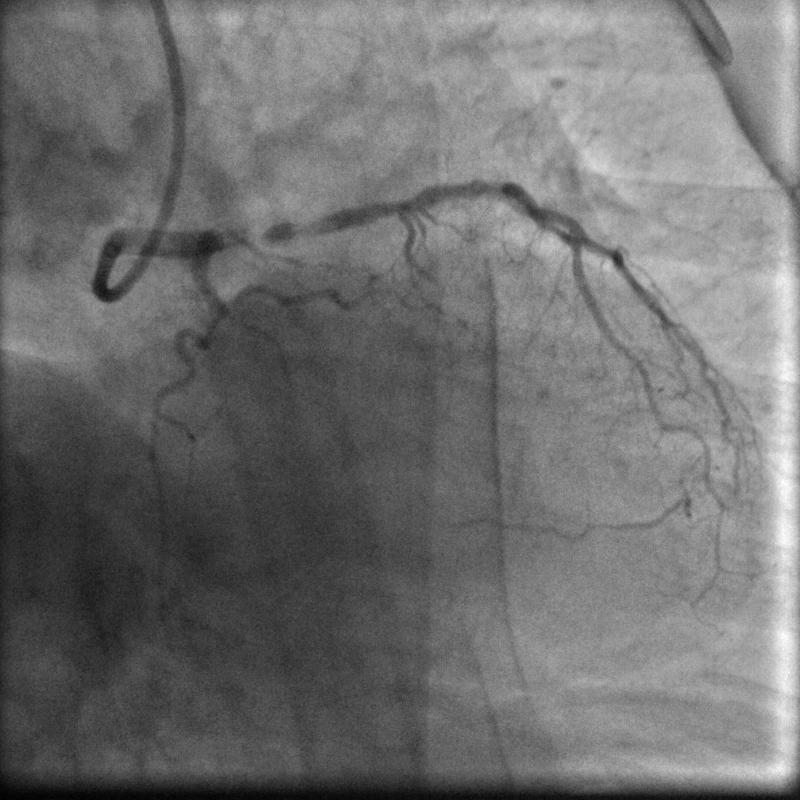Stenosis: (211, 221, 282, 244)
